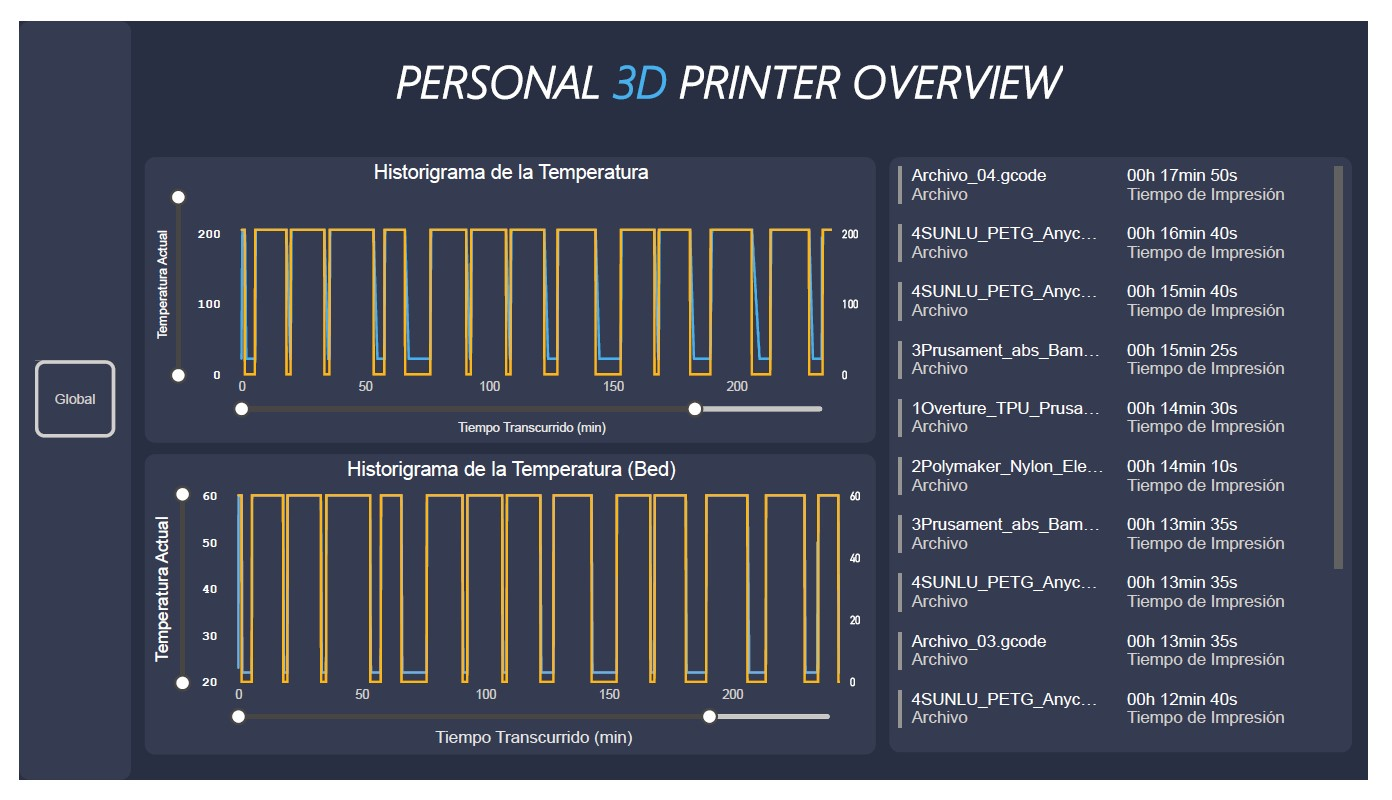

This screenshot's page, from the dashboard's own definition file:
{"tool":"powerbi","page":{"name":"Visual","canvas":[1280,720],"ordinal":1},"visuals":[{"type":"textbox","box":[349.7,22.1,645.4,93.3],"z":0},{"type":"lineChart","title":"Historigrama de la Temperatura","fields":{"Category":["octoprint octo_data.TiempoTranscurrido"],"Y":["Sum(octoprint octo_data.temperatures.nozzle.actual.value)"],"Y2":["Sum(octoprint octo_data.temperatures.nozzle.target.value)"]},"box":[118.6,128.6,694.3,271.4],"z":1000},{"type":"multiRowCard","title":"Top 5 Archivos","fields":{"Values":["octoprint octo_data.Archivo","octoprint octo_data.TiempoImpresionPorArchivo"]},"box":[826.1,129,439.1,565.4],"z":2000},{"type":"textbox","box":[0,0,105.5,720.2],"z":3000},{"type":"actionButton","box":[11,318.4,83.7,81],"z":4000},{"type":"lineChart","title":"Historigrama de la Temperatura (Bed)","fields":{"Category":["octoprint octo_data.TiempoTranscurrido"],"Y":["Sum(octoprint octo_data.temperatures.bed.actual.value)"],"Y2":["Sum(octoprint octo_data.temperatures.bed.target.value)"]},"box":[118.6,411.4,694.3,284.3],"z":5000}]}

Visuals, with their boxes in screenshot pixels (x1, y1, x2, y2), scaled from the page's 1280x720 canvas onto the 1392x800 screenshot:
textbox: {"left": 380, "top": 25, "right": 1082, "bottom": 128}
"Historigrama de la Temperatura" lineChart: {"left": 129, "top": 143, "right": 884, "bottom": 444}
"Top 5 Archivos" multiRowCard: {"left": 898, "top": 143, "right": 1376, "bottom": 772}
textbox: {"left": 0, "top": 0, "right": 115, "bottom": 799}
actionButton: {"left": 12, "top": 354, "right": 103, "bottom": 444}
"Historigrama de la Temperatura (Bed)" lineChart: {"left": 129, "top": 457, "right": 884, "bottom": 773}
